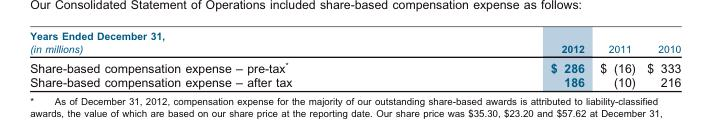table: (29, 29, 680, 88)
table column: (29, 29, 420, 88), (420, 29, 591, 88), (591, 29, 640, 88), (640, 29, 680, 88)
table column header: (29, 29, 680, 57)
table row: (29, 29, 680, 57), (29, 57, 680, 74), (29, 74, 680, 88)
